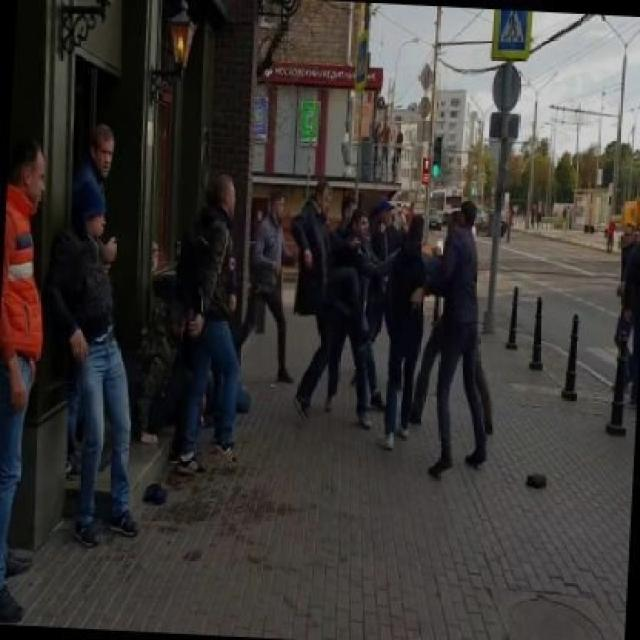fight: (374, 196, 496, 477), (287, 174, 389, 435)
non-fight: (43, 172, 151, 549), (178, 171, 258, 475)
